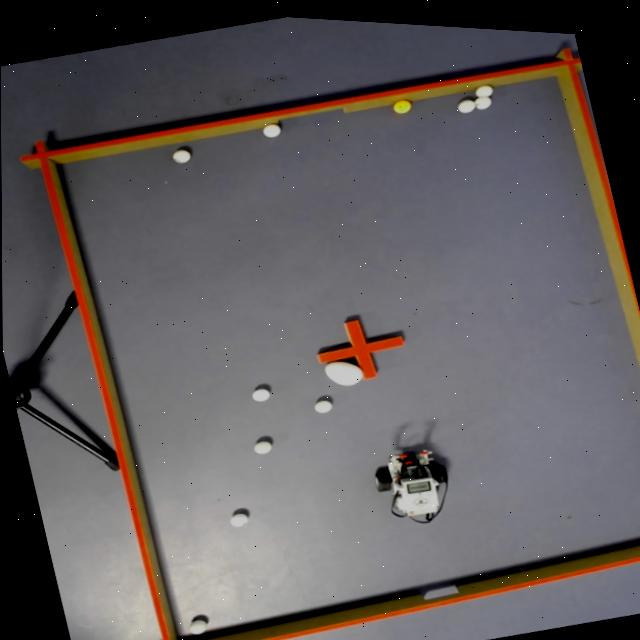boundaries: (17, 48, 640, 640), (55, 76, 640, 640)
cross: (315, 319, 403, 379)
egg: (320, 354, 364, 393)
large_goal: (262, 91, 353, 131)
orange_ball: (391, 97, 414, 116)
robot: (367, 440, 458, 534)
small_goal: (403, 578, 473, 614)
white_ball: (226, 510, 250, 530), (169, 146, 192, 166), (185, 618, 209, 637), (249, 385, 272, 404), (311, 397, 334, 416), (251, 438, 274, 457), (471, 82, 494, 100), (454, 97, 475, 116), (259, 121, 281, 139), (472, 94, 493, 112)
